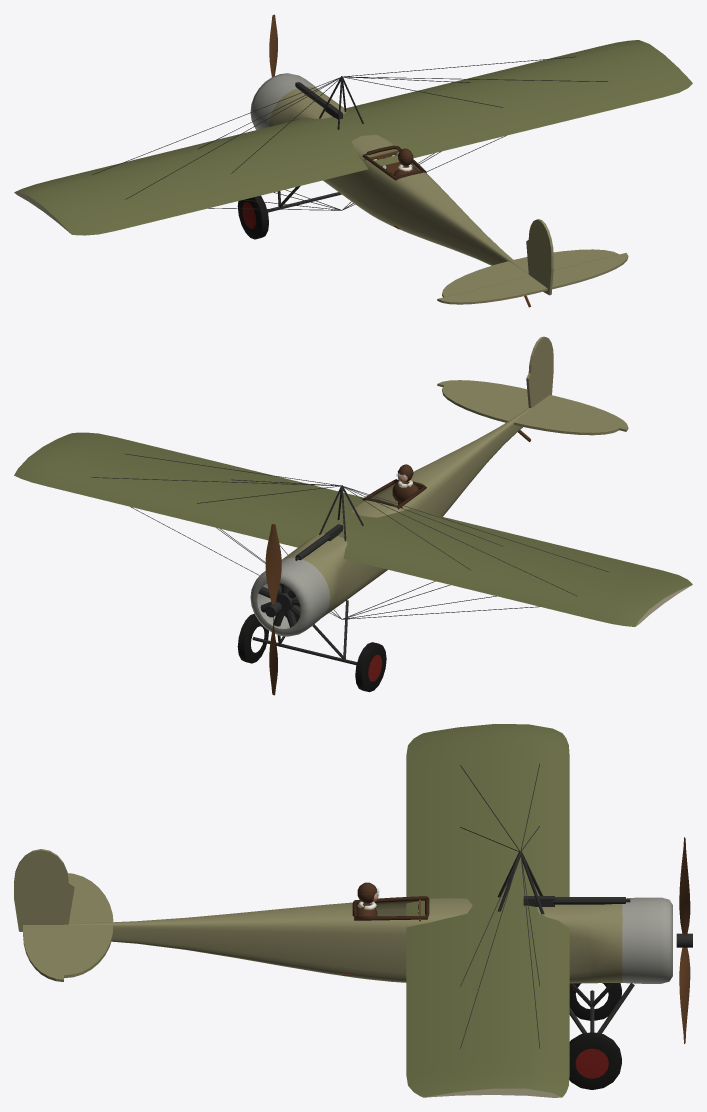
Rendered from fokker_eiii.glb.
3 views of the same model, one above another, from view 1: azimuth 30°, elevation 25°; view 2: azimuth 150°, elevation 25°; view 3: azimuth 270°, elevation 25° (orthographic). The views are drawn at different scales.
Parts seen in each view (by area): view 1: Wing_Main_L, Wing_Main_R, Fuselage, Elevator, Wires, Rudder, Cowling, Stabilizer_L, Wheels, Stabilizer_R, Undercarriage, Coaming; view 2: Wing_Main_L, Wing_Main_R, Fuselage, Cowling, Wires, Elevator, Wheels, Stabilizer_L, PropBlades, Stabilizer_R, Rudder, RotaryEngine (+2 smaller); view 3: Wing_Main_R, Wing_Main_L, Fuselage, Cowling, Rudder, Wheels, Stabilizer_R, Elevator, PropBlades, Stabilizer_L, Wires, Undercarriage (+4 smaller).
Boxes of the visible parts, x1,y1,x2,y2 form: Wing_Main_L: (14,117,388,235); Wing_Main_R: (341,40,692,163); Fuselage: (269,86,528,274); Elevator: (437,253,628,304); Wires: (91,56,607,210); Rudder: (526,219,553,295); Cowling: (250,73,319,129); Stabilizer_L: (442,261,530,297); Wheels: (237,195,268,239); Stabilizer_R: (514,249,618,271); Undercarriage: (267,186,530,307); Coaming: (362,145,426,180); Wing_Main_L: (338,509,692,626); Wing_Main_R: (14,432,363,547); Fuselage: (282,408,530,617); Cowling: (250,557,330,636); Wires: (91,453,609,619); Elevator: (437,380,628,431); Wheels: (237,614,386,692); Stabilizer_L: (513,407,619,435); PropBlades: (265,524,281,695); Stabilizer_R: (442,385,528,422); Rudder: (526,336,553,407); RotaryEngine: (258,584,300,627); Wing_Main_R: (406,904,569,1097); Wing_Main_L: (406,724,569,915); Fuselage: (68,898,622,983); Cowling: (622,897,672,983); Rudder: (14,849,74,931); Wheels: (569,983,621,1089); Stabilizer_R: (64,924,113,978); Elevator: (23,925,63,981); PropBlades: (676,837,692,1043); Stabilizer_L: (67,873,113,923); Wires: (460,763,539,1048); Undercarriage: (569,983,634,1033).
Bounding box in the file's own units: 9.52 × 2.63 × 7.49.
